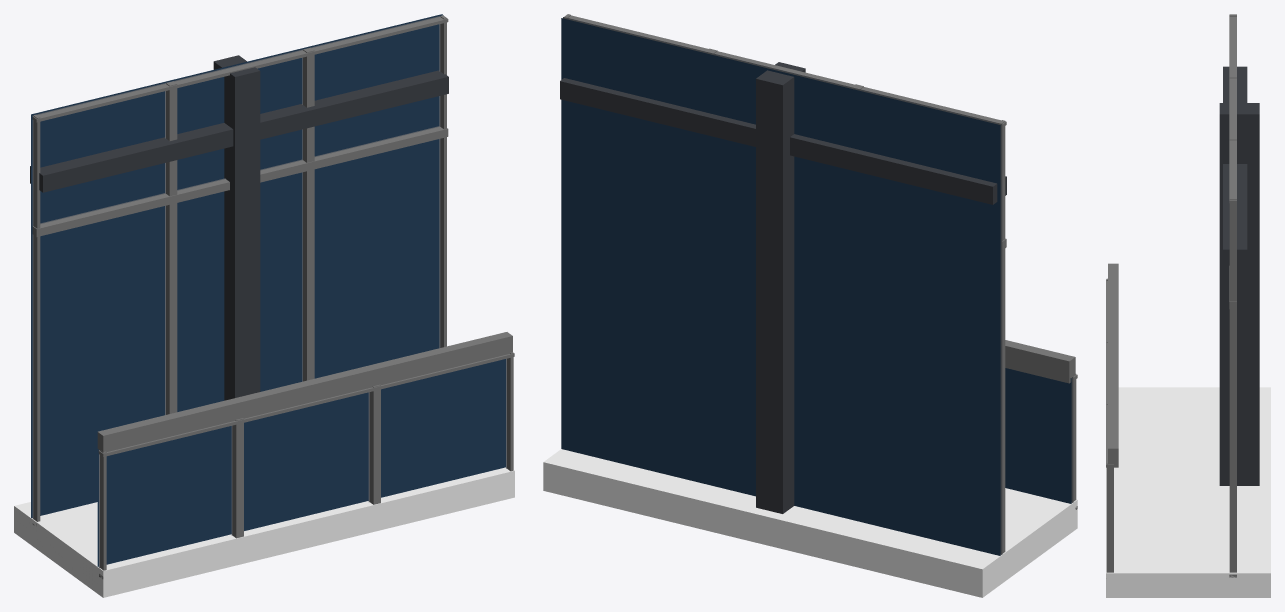
Rendered from mid-w1_close.fbx.
3 renders of one model, left to right at view 1: azimuth 30°, elevation 25°; view 2: azimuth 150°, elevation 25°; view 3: azimuth 270°, elevation 25°, orthographic. The views are drawn at different scales.
Visible parts, largest first — view 1: M_Wall.009; view 2: M_Wall.009; view 3: M_Wall.009.
Part boxes in pixels (<box>): M_Wall.009: <box>14,14,514,597</box>; M_Wall.009: <box>543,14,1077,597</box>; M_Wall.009: <box>1106,14,1270,597</box>.
Bounding box in the file's own units: 4 × 4 × 1.5.
